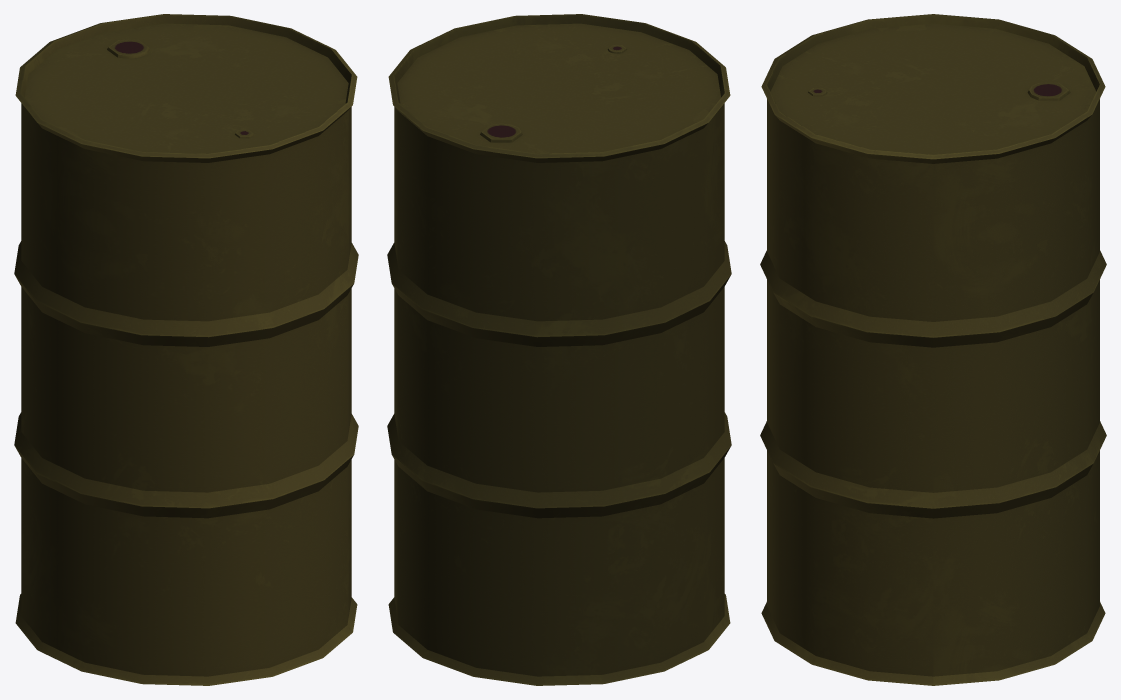
Rendered from drum.fbx.
3 renders of one model, left to right at view 1: azimuth 30°, elevation 25°; view 2: azimuth 150°, elevation 25°; view 3: azimuth 270°, elevation 25°, orthographic.
Parts seen in each view (by area): view 1: Cylinder.017; view 2: Cylinder.017; view 3: Cylinder.017.
Boxes of the visible parts, x1,y1,x2,y2 form: Cylinder.017: (14, 14, 358, 685); Cylinder.017: (387, 14, 731, 685); Cylinder.017: (760, 14, 1106, 685).
Bounding box in the file's own units: 64.06 × 108 × 64.06.
